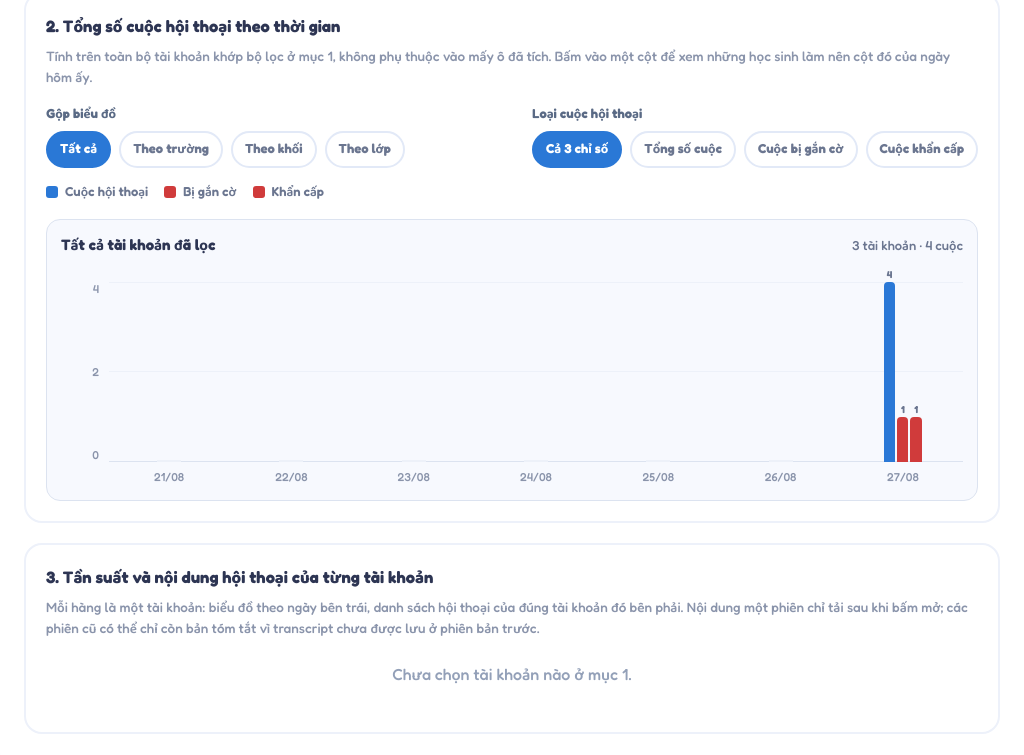
Test case: bấm một cột ra đúng những em của ngày đó, bấm tên thì mở chi tiết em đó
(page scrolled)
Expected: the element named "Biểu đồ tổng — Tất cả tài khoản đã lọc" is shown, [46,219,978,501]
Click the option named "Cuộc hội thoại 4" at x=889, y=372, box [884,282,922,462]
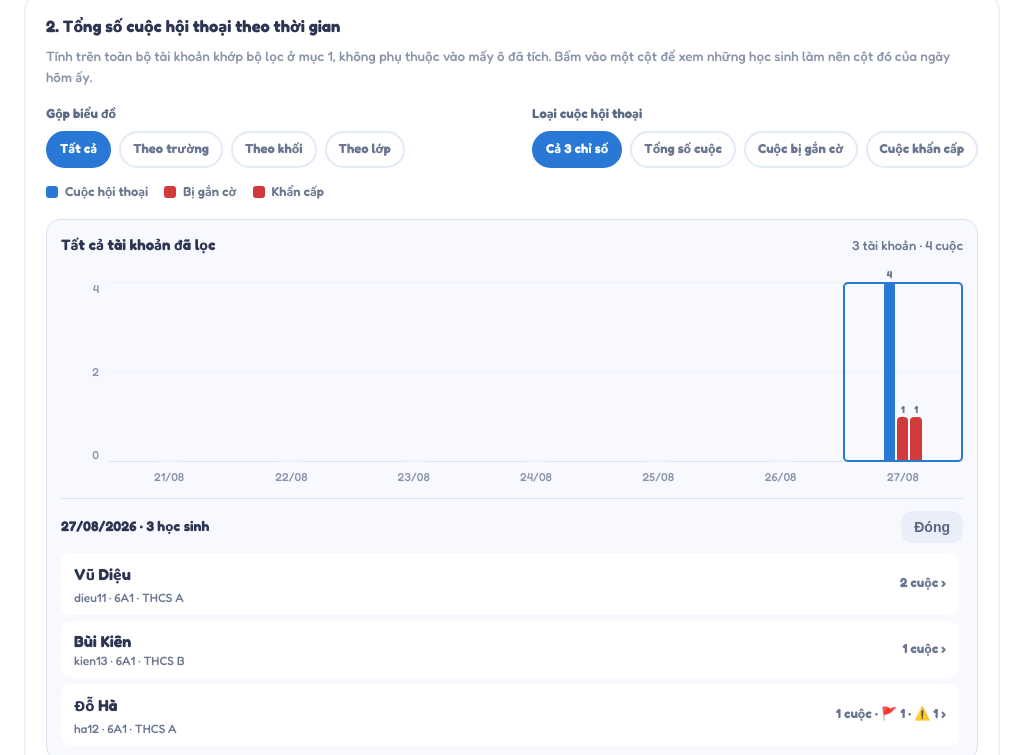
Click the button "Vũ Diệu dieu11 · 6A1 · THCS A 2 cuộc ›" at x=102, y=574, box [61,553,959,615]
(page scrolled)
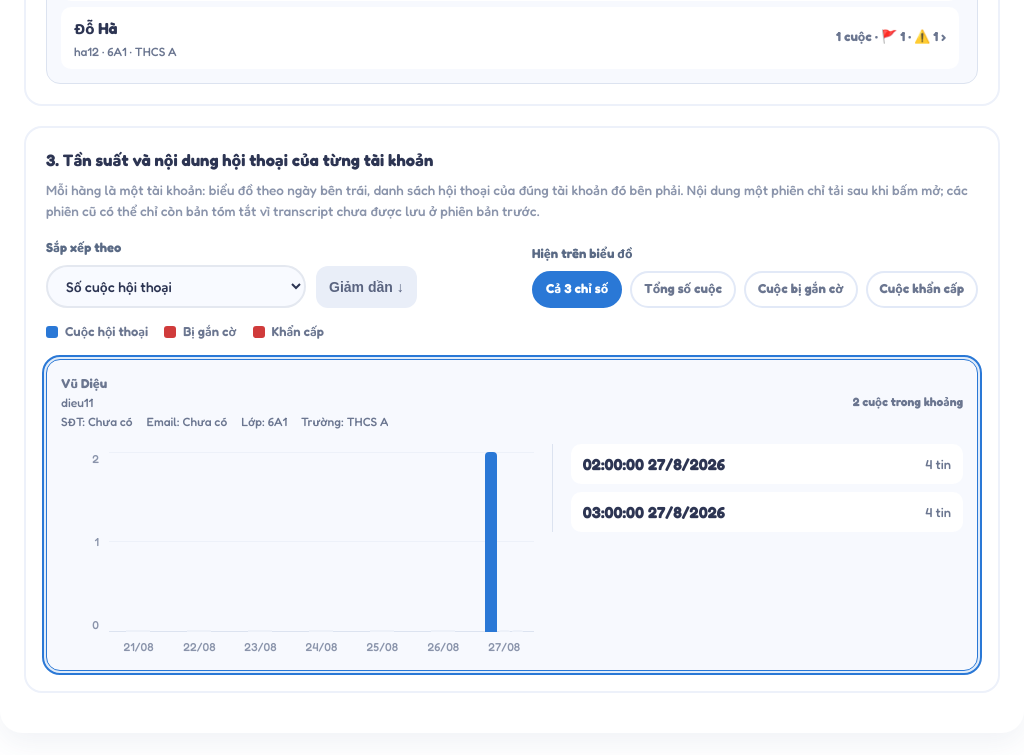
Expected: the element named "Tần suất của Vũ Diệu" is shown, [61,444,534,656]
Expected: the number of buttons "02:00:00 27/8/2026 4 tin" is 2, [583,454,951,474]; [583,502,951,522]
